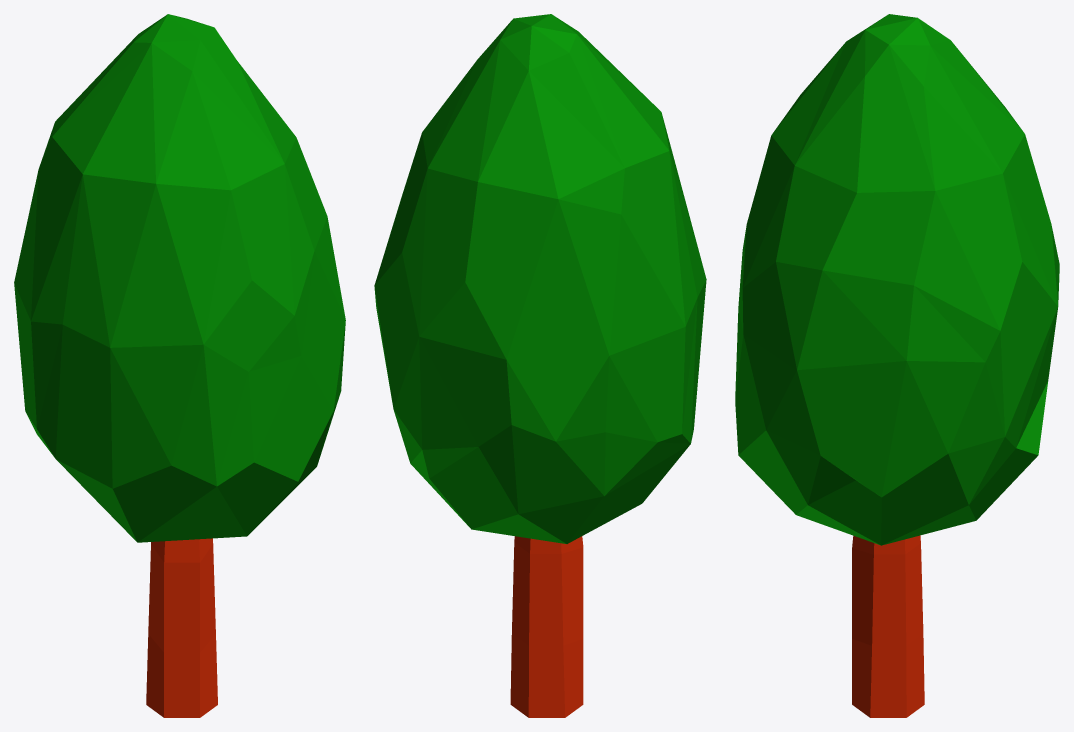
File: CienkieDrzewo1.fbx
3 views of the same model, side by side, from view 1: azimuth 30°, elevation 25°; view 2: azimuth 150°, elevation 25°; view 3: azimuth 270°, elevation 25° (orthographic).
Visible parts, largest first — view 1: Kula ico, Walec; view 2: Kula ico, Walec; view 3: Kula ico, Walec.
Boxes of the visible parts, x1,y1,x2,y2 form: Kula ico: (14,14,345,542); Walec: (146,538,217,717); Kula ico: (374,14,706,543); Walec: (510,536,583,717); Kula ico: (735,14,1059,545); Walec: (852,535,924,717).
Size of the model in its own units: 918 by 2087 by 894.
